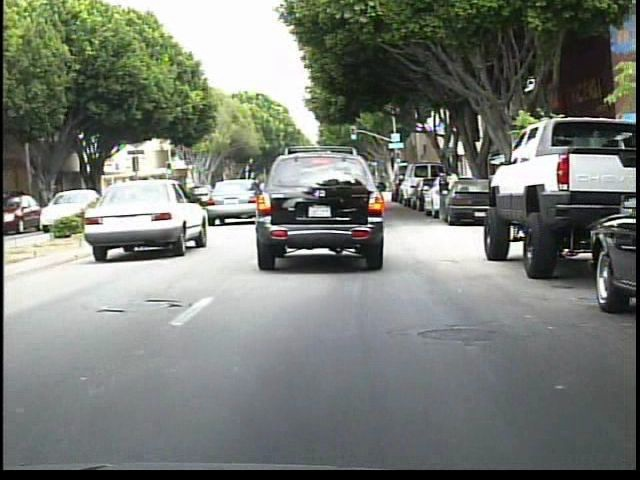person: (445, 166, 462, 217), (437, 173, 453, 224)
